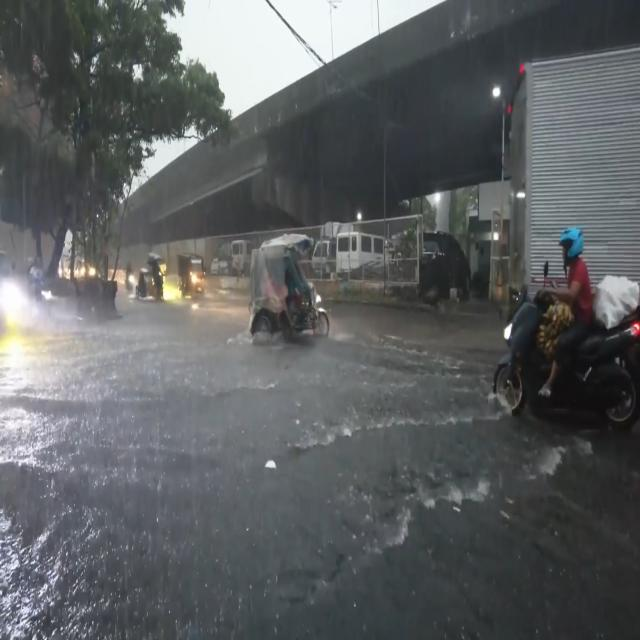half: (559, 228, 585, 266)
